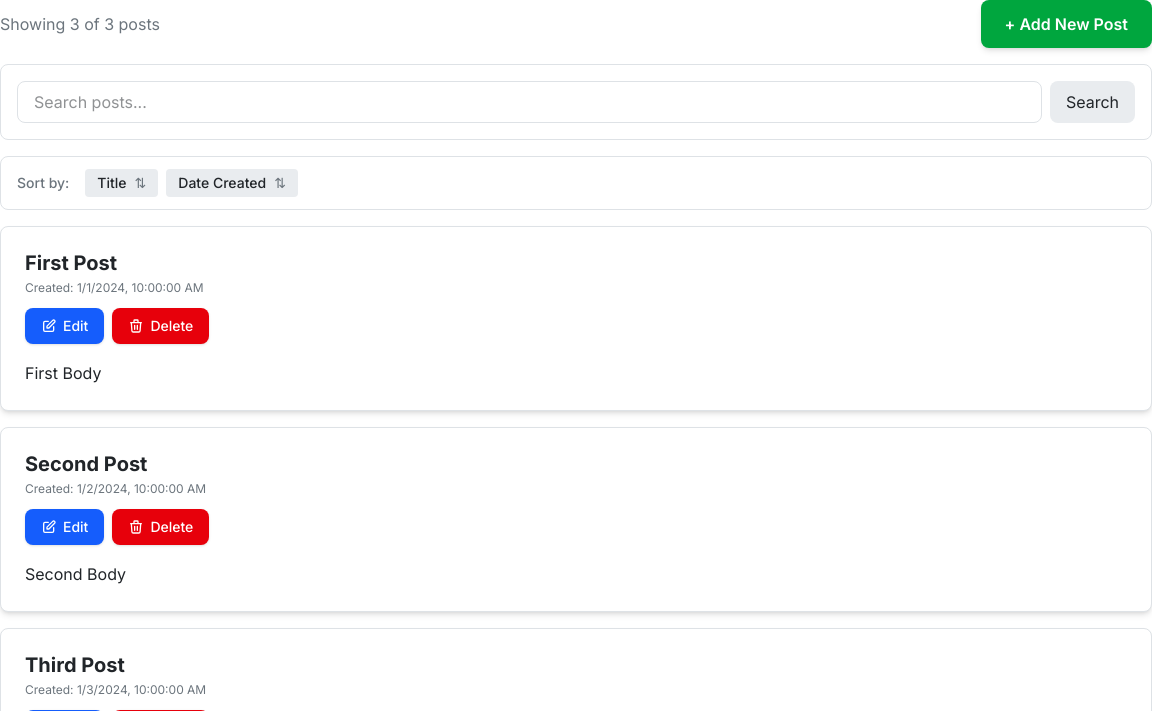
PostsTable Component › Post Update › should update post and show success toast
The image size is (1152, 711).
Expected: the heading "First Post" is shown, [25,251,117,275]
# Open edit modal
Click the button with aria-label "edit post" at x=65, y=326, box [25,308,104,344]
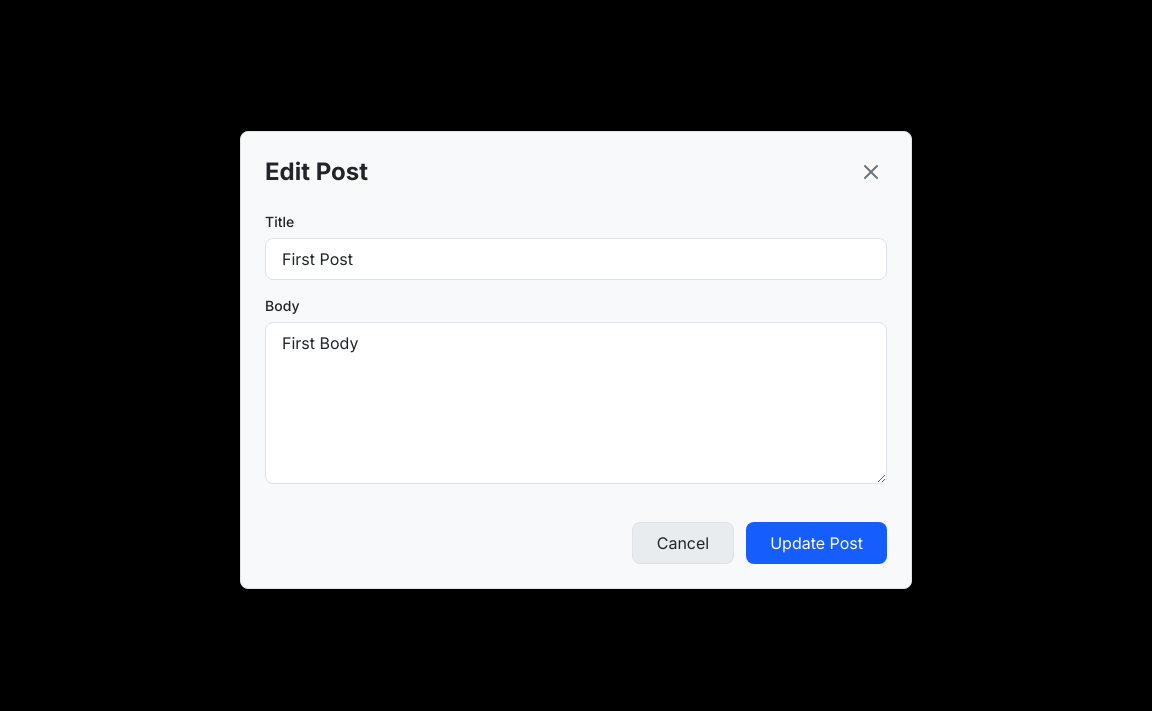
# Update form
Replace the text in the field labelled "Title" with "Updated First Post" at x=576, y=259, box [265,238,887,280]
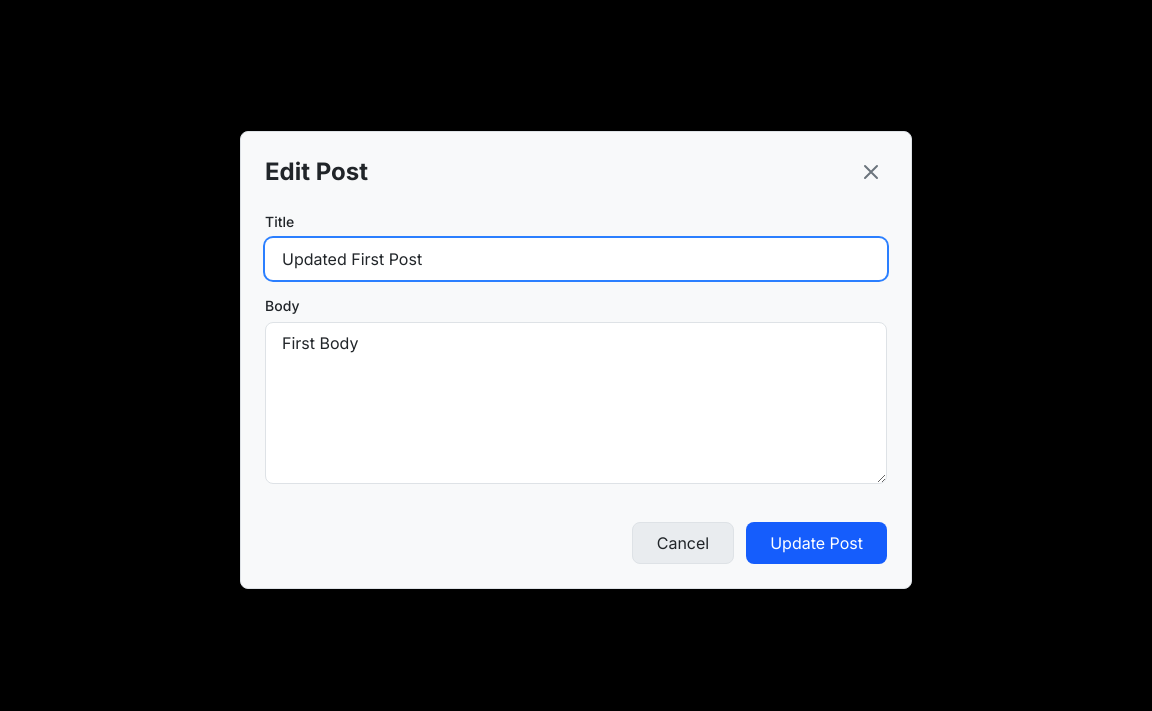
Click the button "Update Post" at x=817, y=543, box [746,522,887,564]
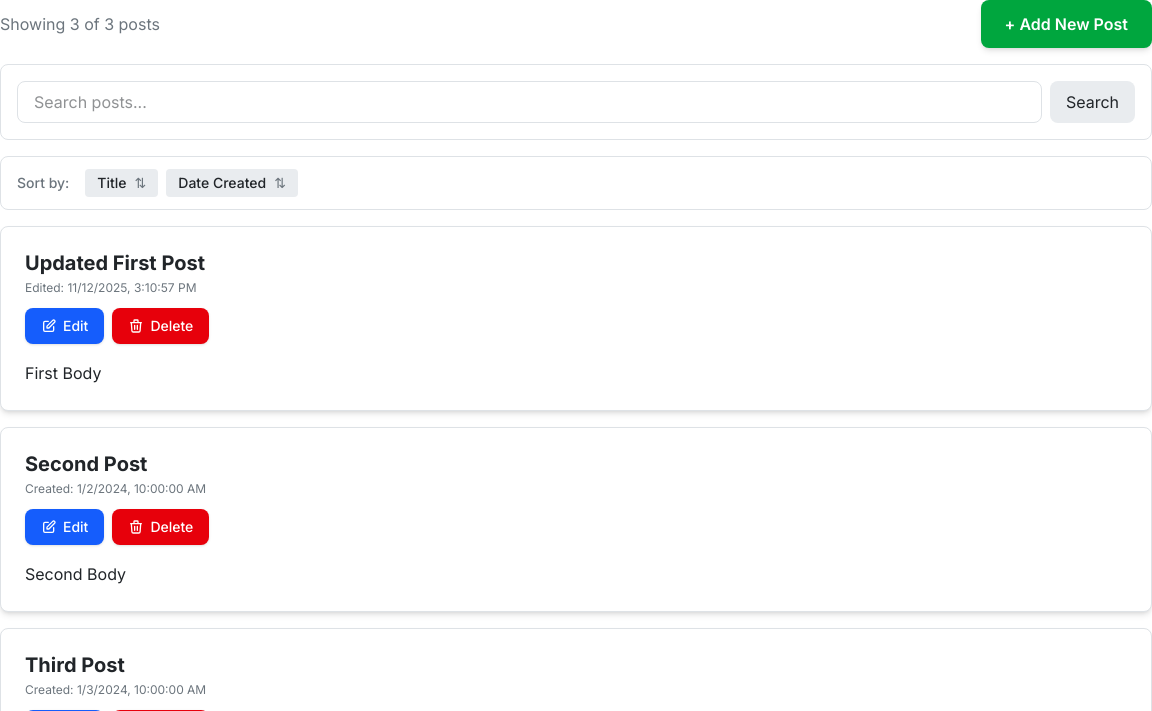
Now the heading "Updated First Post" is shown, box [25,251,205,275]
